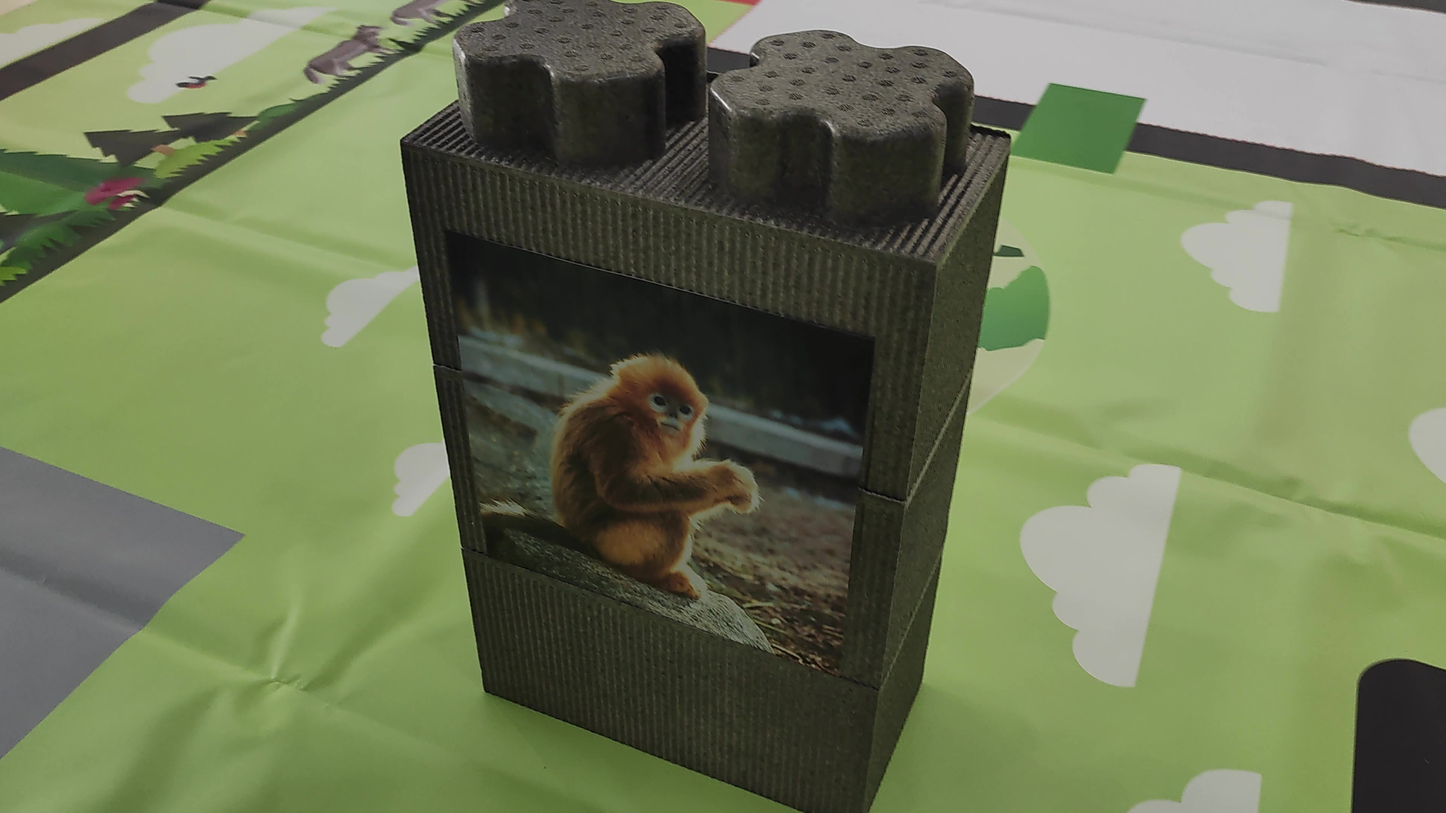monkey: (505, 319, 768, 626)
